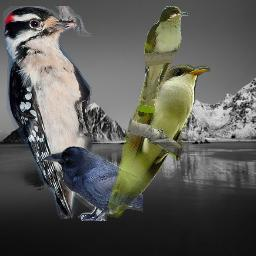Crow: (43, 146, 143, 221)
Cuckoo: (106, 64, 211, 218), (136, 6, 189, 125)
Woodpecker: (3, 6, 106, 219)
